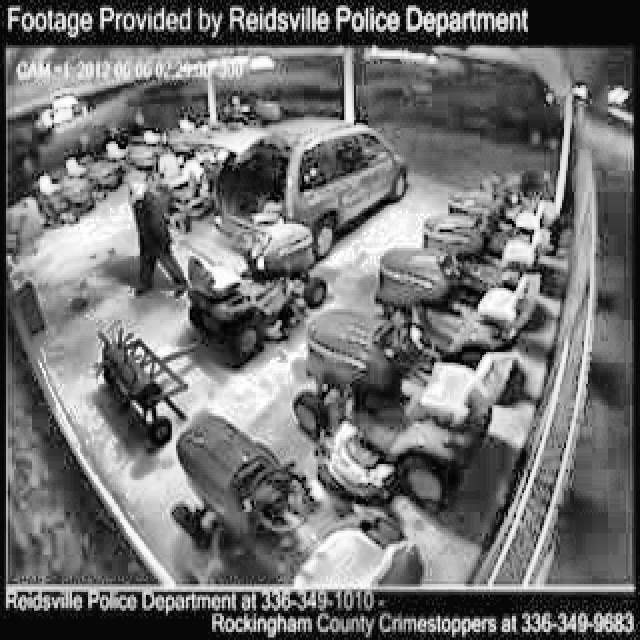burglary: (168, 114, 413, 264), (128, 180, 199, 305)
